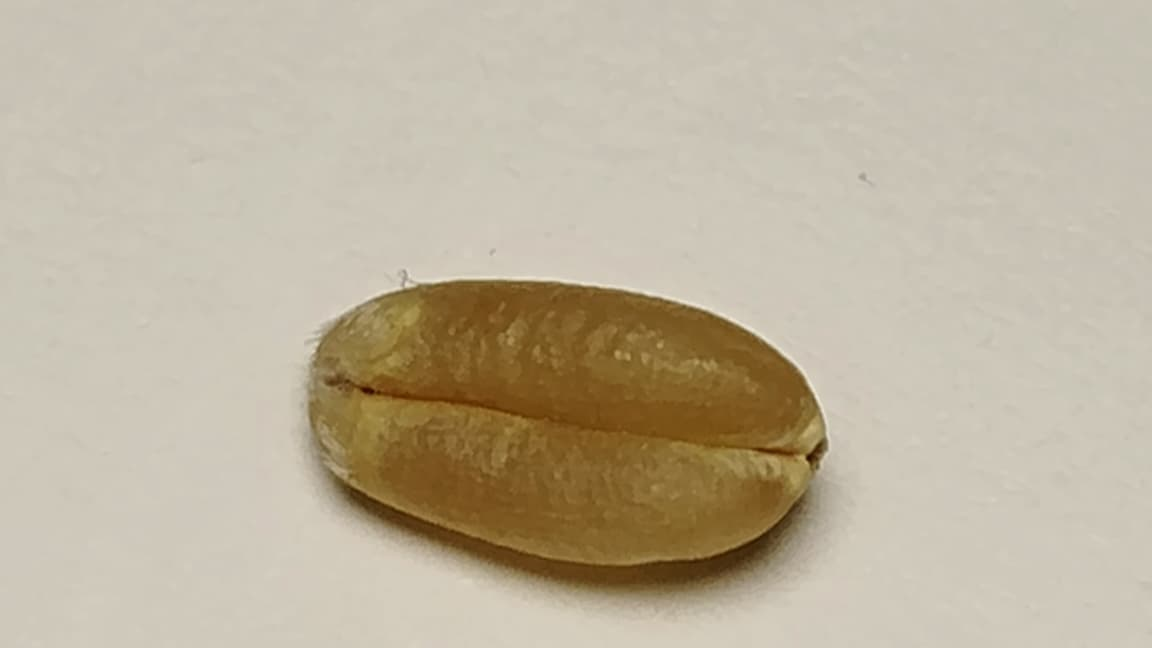healthy: (309, 280, 825, 563)
